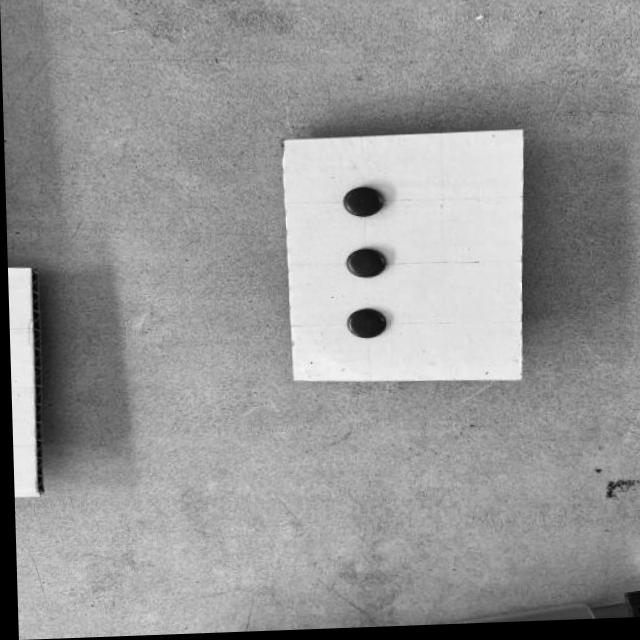braiile: (288, 137, 517, 382)
